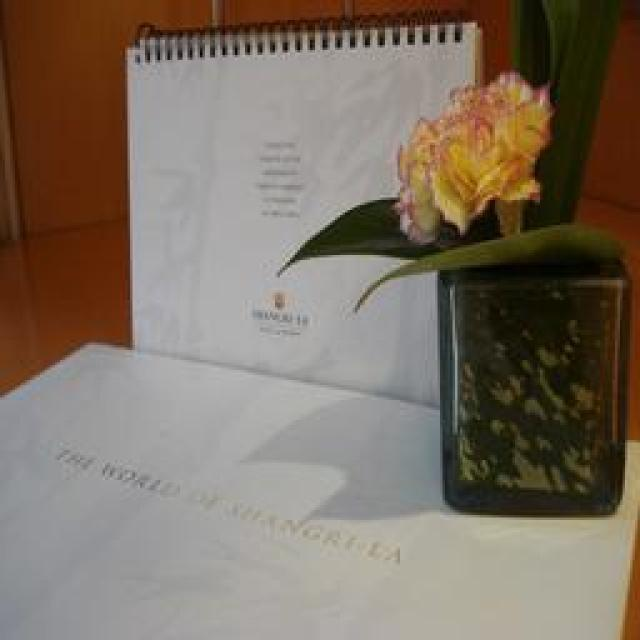carnation: (382, 77, 576, 242)
